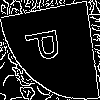P: (24, 25, 68, 65)
